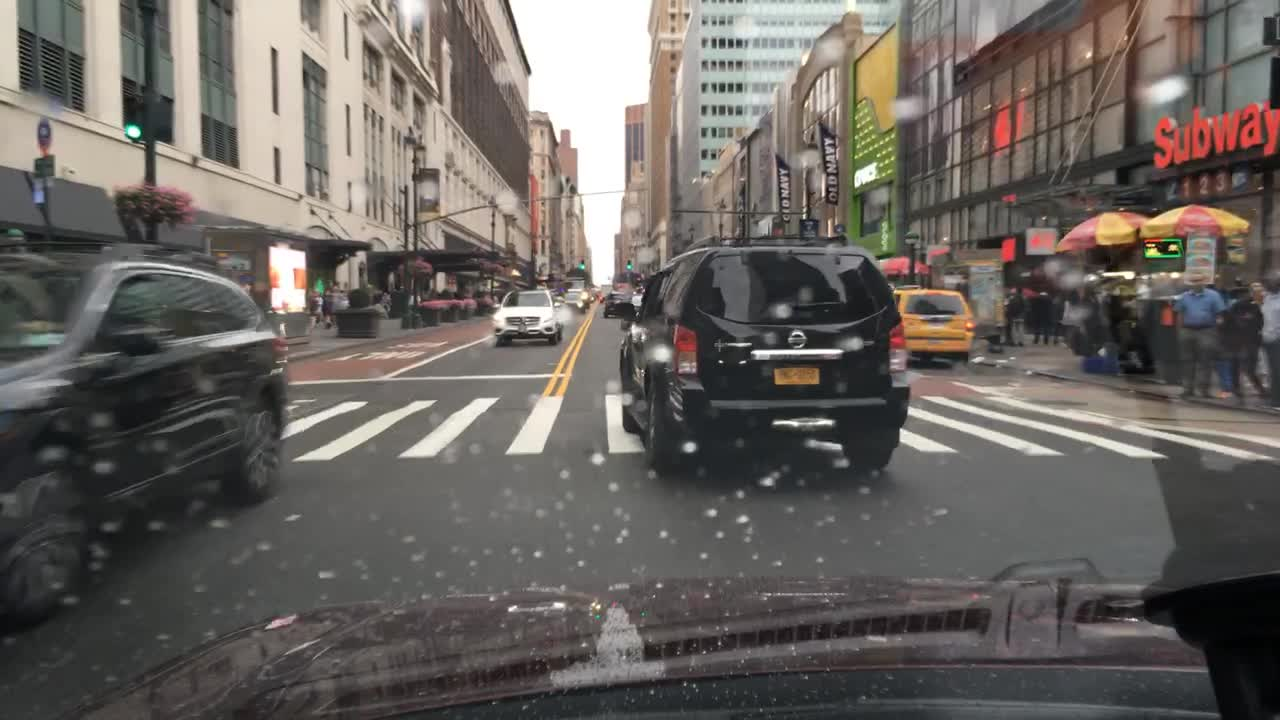car: (0, 229, 291, 624), (618, 235, 914, 470), (896, 284, 977, 366), (492, 289, 564, 347), (603, 292, 639, 319), (565, 286, 593, 308), (561, 295, 586, 311), (598, 283, 613, 303), (565, 277, 590, 287), (590, 287, 606, 301), (542, 284, 559, 295)
person: (1172, 271, 1228, 400), (1222, 285, 1264, 406), (1243, 279, 1269, 395), (1215, 285, 1240, 401), (1259, 275, 1279, 406), (1030, 285, 1050, 347), (1009, 287, 1027, 345), (1046, 294, 1063, 350), (320, 287, 335, 326), (307, 288, 320, 324)
traffic light: (121, 93, 140, 145), (624, 254, 631, 271), (578, 255, 584, 271)
traffic sign: (31, 172, 52, 204), (31, 153, 56, 179), (37, 119, 53, 149)
